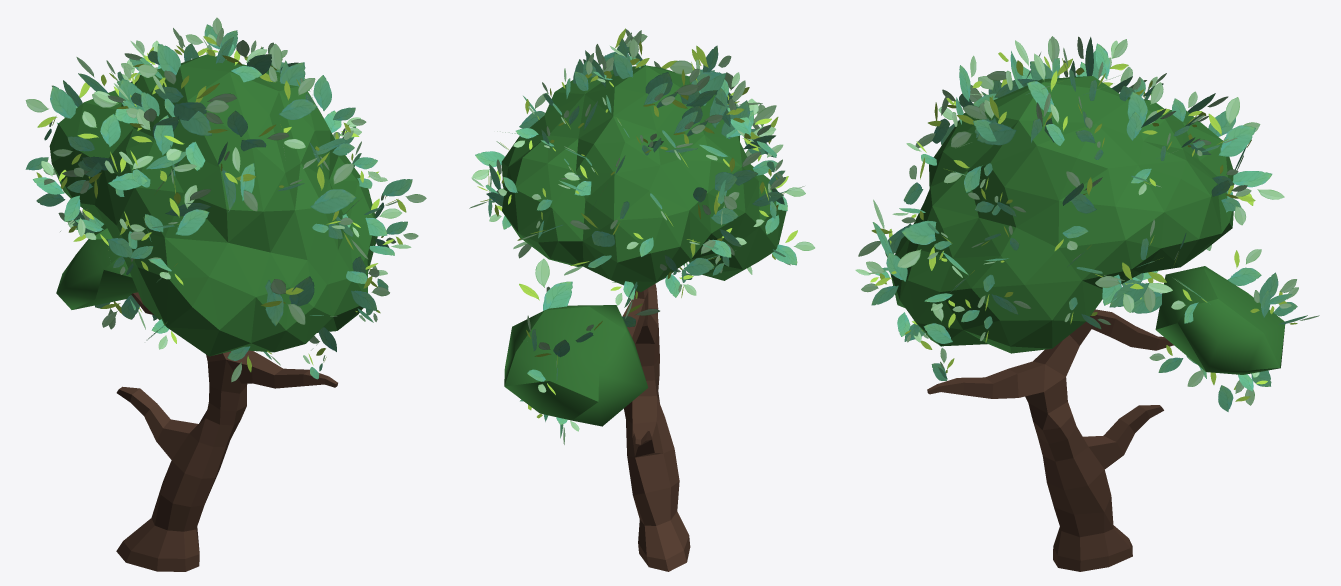
The model's file is tree_01_textured.fbx.
3 renders of one model, left to right at view 1: azimuth 30°, elevation 25°; view 2: azimuth 150°, elevation 25°; view 3: azimuth 270°, elevation 25°, orthographic. The views are drawn at different scales.
Visible parts, largest first — view 1: polySurface2019, polySurface2061, wood, pCube24; view 2: polySurface2019, polySurface2061, pCube24, wood; view 3: polySurface2019, polySurface2061, wood, pCube24.
Boxes of the visible parts, box(x1,y1,x2,y2) form: polySurface2019: box(49, 54, 377, 356); polySurface2061: box(25, 17, 426, 382); wood: box(116, 292, 337, 571); pCube24: box(56, 224, 137, 309); polySurface2019: box(501, 65, 786, 292); polySurface2061: box(469, 28, 814, 444); pCube24: box(504, 305, 648, 426); wood: box(622, 283, 690, 571); polySurface2019: box(890, 76, 1233, 353); polySurface2061: box(855, 36, 1319, 411); wood: box(927, 309, 1173, 571); pCube24: box(1155, 266, 1285, 374).
Size of the model in its own units: 4.22 by 6.82 by 5.55.
Materials: 3 (1 with a texture image).
